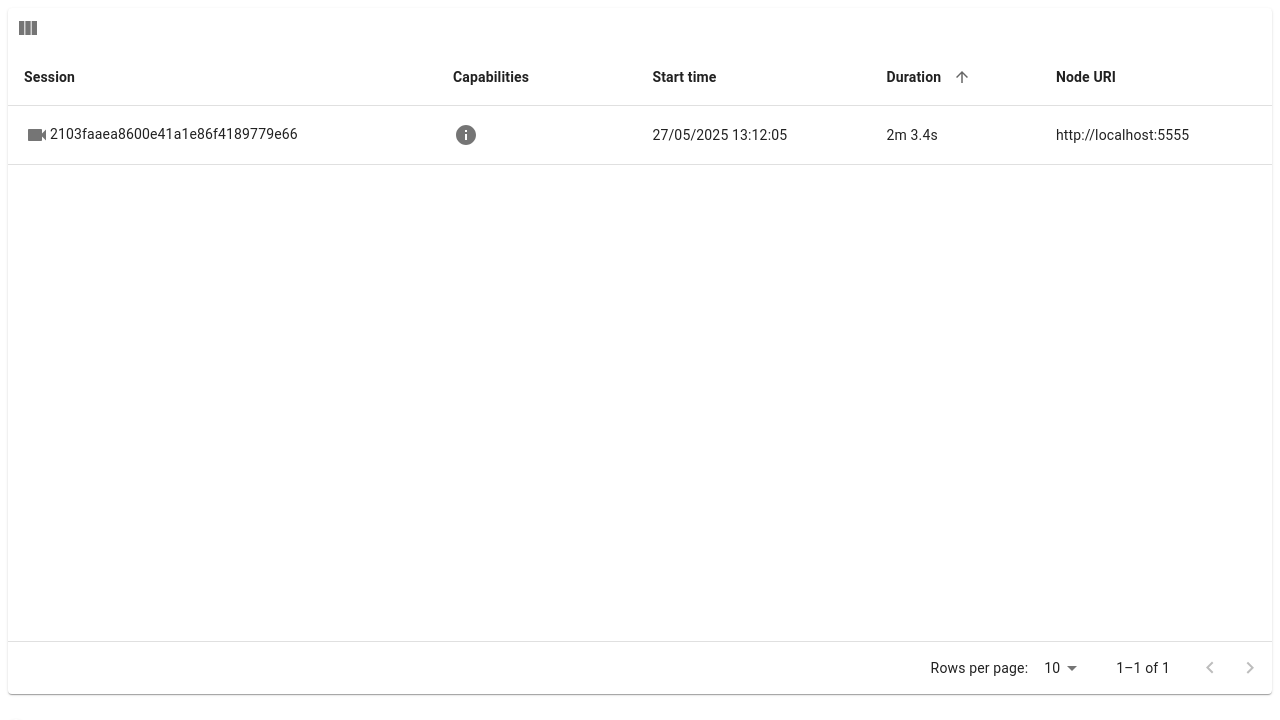
Test case: Session deletion functionality › shows confirmation dialog when delete button is clicked
The width and height of the screenshot is (1280, 720).
Click the button with test id "InfoIcon" at (466, 135), box x1=453 y1=122 x2=479 y2=148
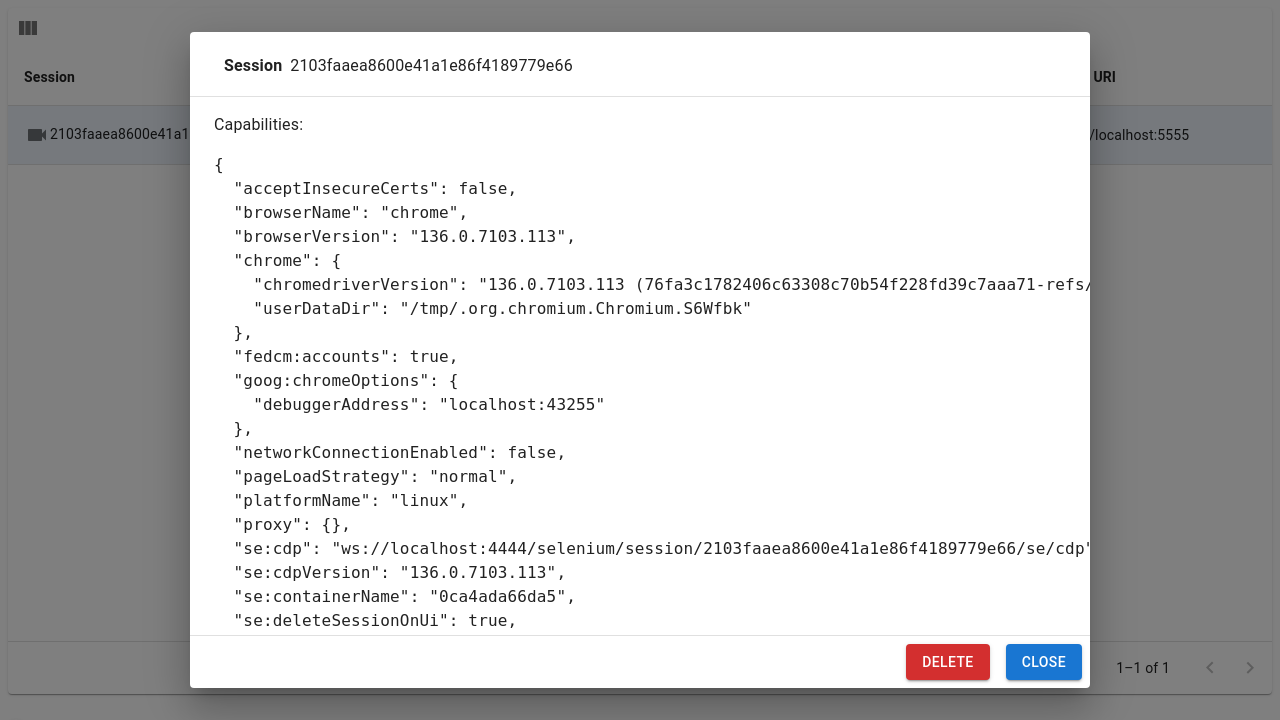
Click the button "Delete" at (948, 662), box x1=906 y1=644 x2=990 y2=680
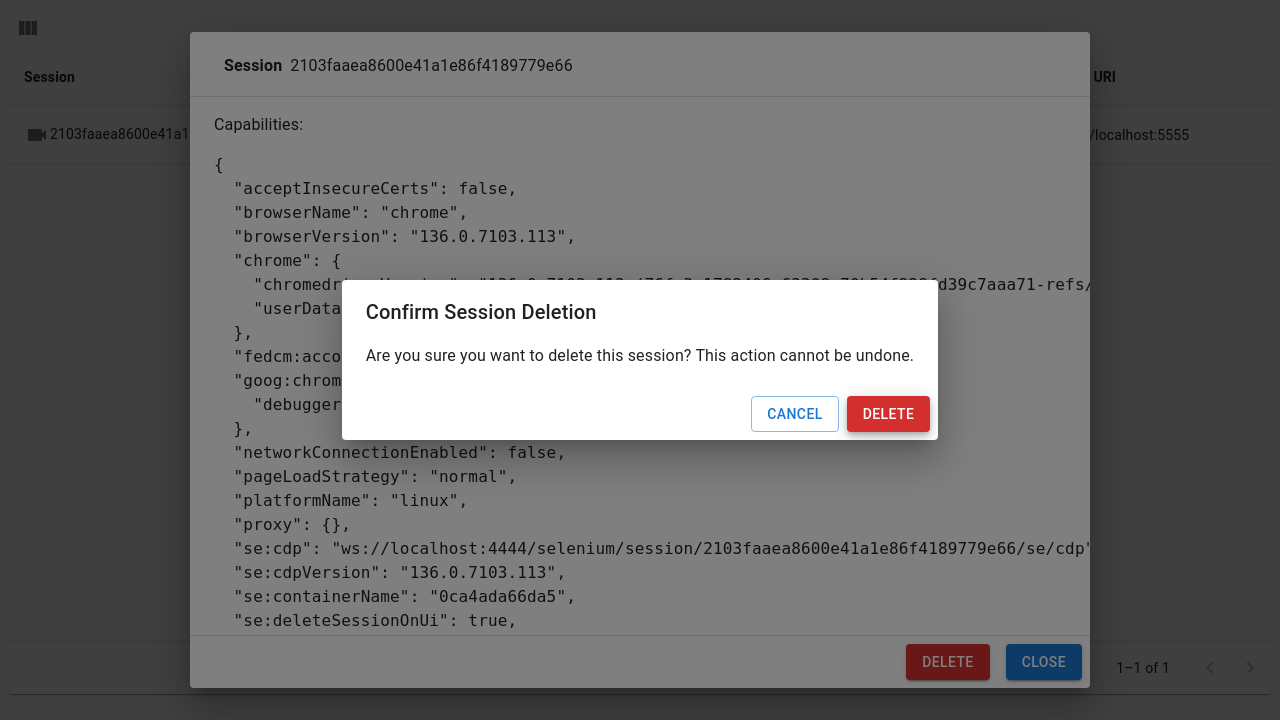
Expected: the heading "Confirm Session Deletion" is shown, x1=366 y1=300 x2=597 y2=324
Expected: the text "Are you sure you want to delete this session? This action cannot be undone." is shown, x1=366 y1=344 x2=914 y2=368
Expected: the button "Cancel" is shown, x1=751 y1=396 x2=839 y2=432
